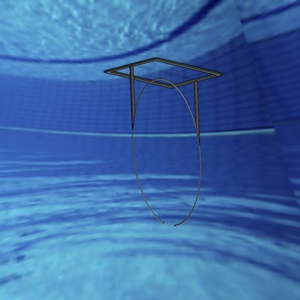circle: (103, 56, 222, 226)
